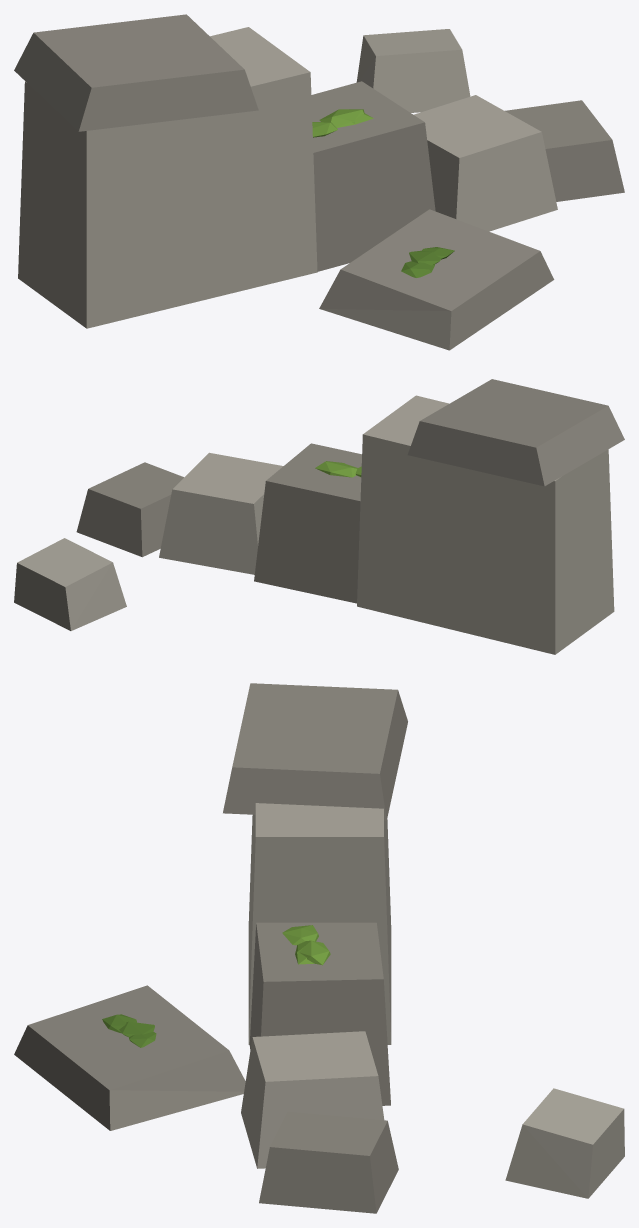
Rendered from prop-yard-wall-end.glb.
3 views of the same model, one above another, from view 1: azimuth 30°, elevation 25°; view 2: azimuth 150°, elevation 25°; view 3: azimuth 270°, elevation 25° (orthographic). The views are drawn at different scales.
Parts seen in each view (by area): view 1: YardWallEnd; view 2: YardWallEnd; view 3: YardWallEnd.
Boxes of the visible parts, <box> form: YardWallEnd: <box>14,14,624,350</box>; YardWallEnd: <box>14,379,624,654</box>; YardWallEnd: <box>14,683,624,1213</box>.
Size of the model in its own units: 1.54 by 0.6134 by 1.37.
